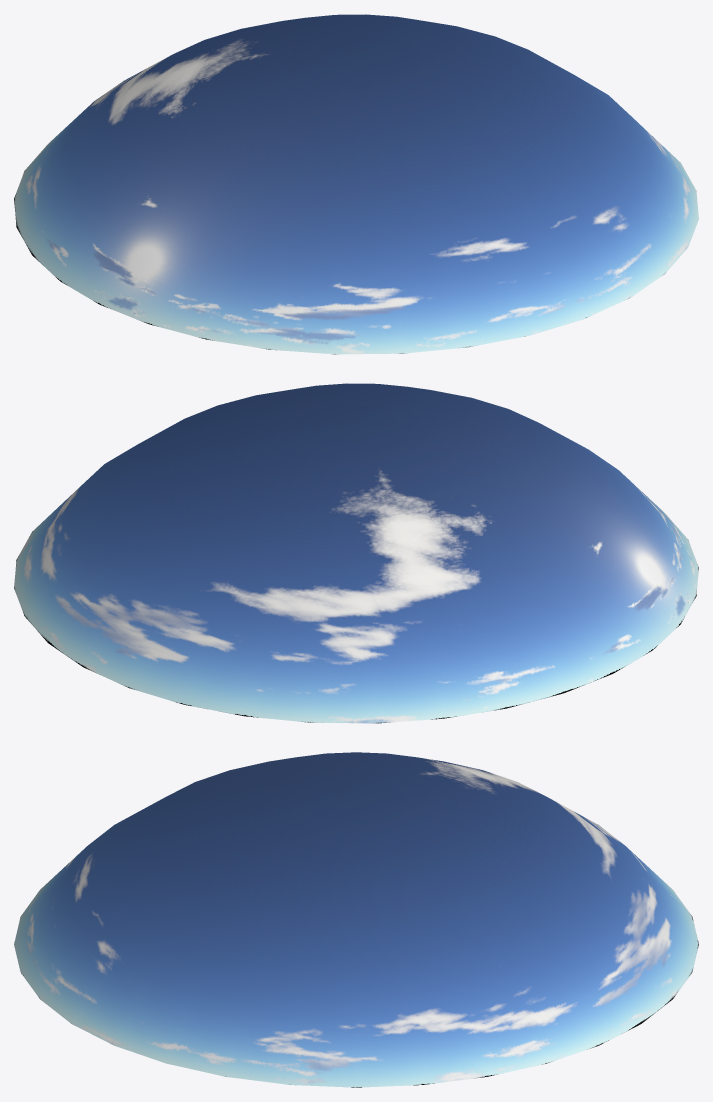
The model's file is sky_day2.obj.
The picture shows the model from 3 angles, top to bottom: view 1: azimuth 30°, elevation 25°; view 2: azimuth 150°, elevation 25°; view 3: azimuth 270°, elevation 25°; orthographic projection.
Parts seen in each view (by area): view 1: Sphere; view 2: Sphere; view 3: Sphere.
Boxes of the visible parts, x1=… form: Sphere: x1=14, y1=14, x2=698, y2=354; Sphere: x1=14, y1=383, x2=698, y2=723; Sphere: x1=14, y1=752, x2=698, y2=1087.
Bounding box in the file's own units: 60.09 × 14.92 × 60.75.
Materials: 1 (1 with a texture image).
